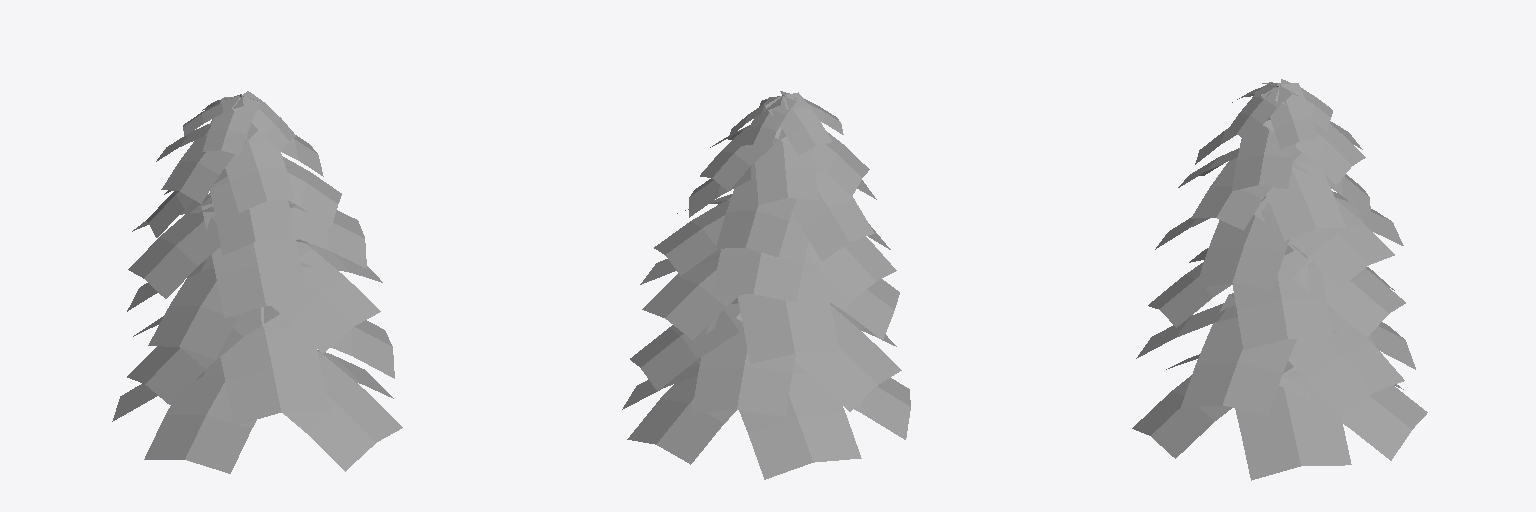
The model's file is Pine_2.obj.
The picture shows the model from 3 angles: view 1: azimuth 30°, elevation 25°; view 2: azimuth 150°, elevation 25°; view 3: azimuth 270°, elevation 25°; orthographic projection.
Parts seen in each view (by area): view 1: Pine_2; view 2: Pine_2; view 3: Pine_2.
Part boxes in pixels (x1,y1,x2,y2): Pine_2: (112,91,402,473); Pine_2: (622,91,910,479); Pine_2: (1132,79,1427,480).
Bounding box in the file's own units: 6.61 × 8.34 × 6.78.